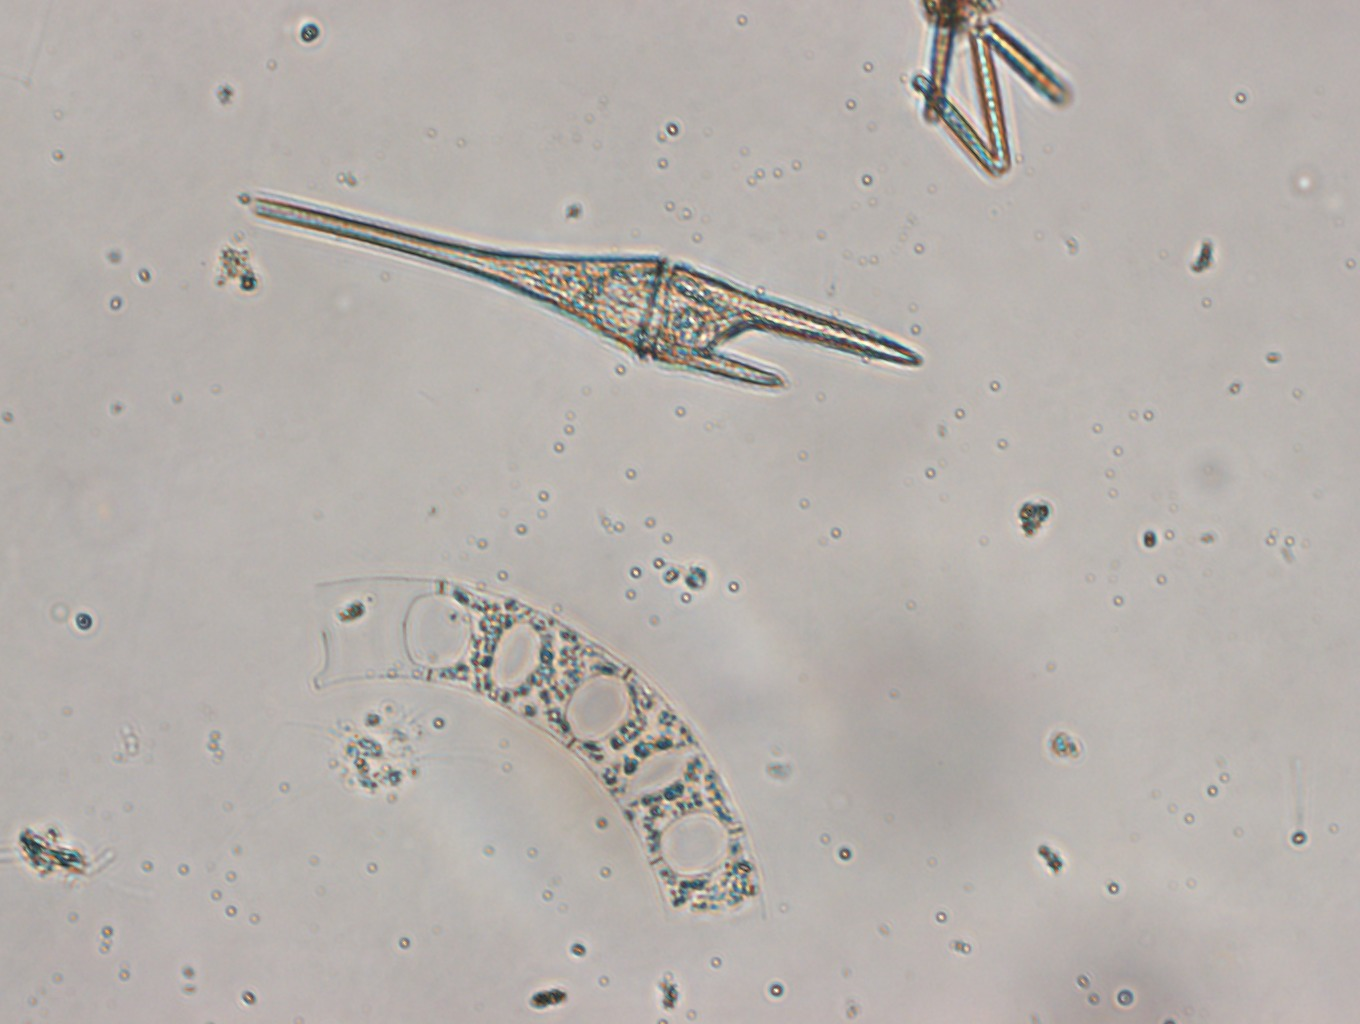ceratium furca: (246, 191, 925, 389)
eucampia: (310, 577, 764, 930)
thalassionema nitzschioides: (910, 18, 1072, 179)
